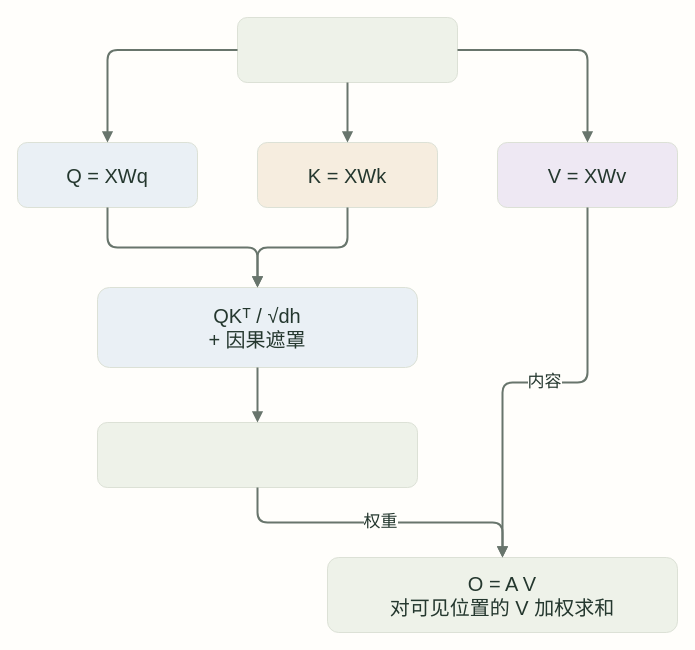
This 695x650 diagram has some shape labels left out. Here are the shapes that lost their labels. From the top down, the centre of each, then its label:
At pixel 347 49: "输入 X".
At pixel 257 455: "按行 softmax → A".
